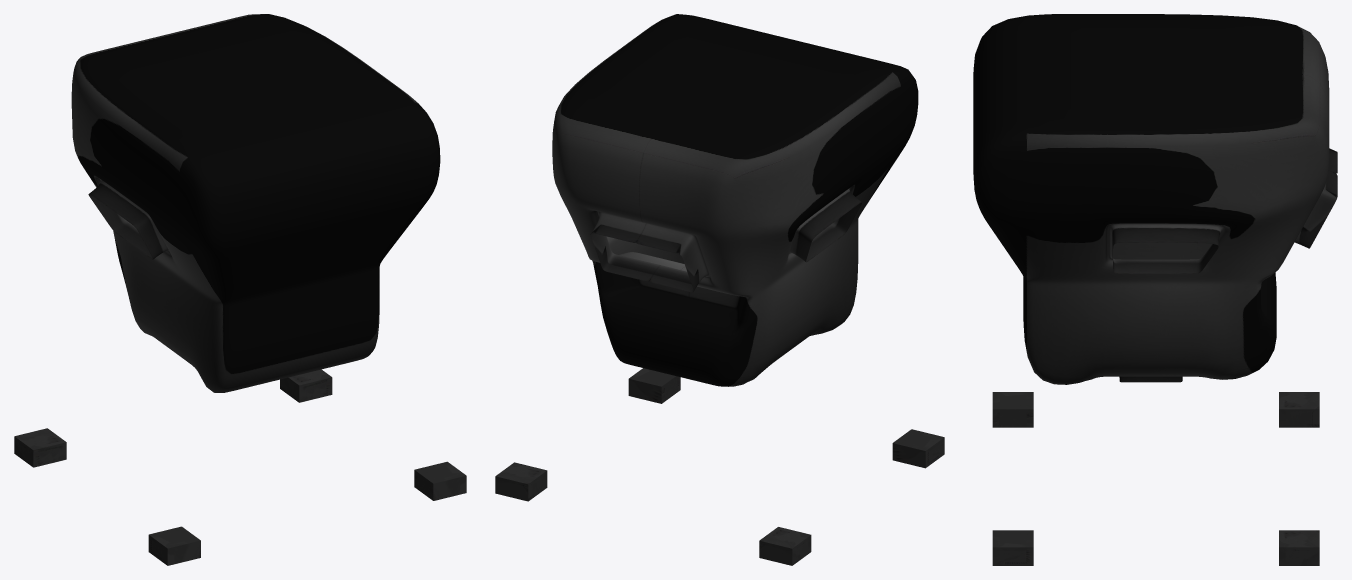
Rendered from lander.glb.
3 views of the same model, side by side, from view 1: azimuth 30°, elevation 25°; view 2: azimuth 150°, elevation 25°; view 3: azimuth 270°, elevation 25° (orthographic). The views are drawn at different scales.
Visible parts, largest first — view 1: Cube.001; view 2: Cube.001; view 3: Cube.001.
Boxes of the visible parts, box(x1,y1,x2,y2) form: Cube.001: box(14, 14, 466, 565); Cube.001: box(495, 14, 944, 565); Cube.001: box(973, 14, 1337, 565).
Size of the model in its own units: 3.6 by 4.5 by 3.56.
1 material, 1 textured.
